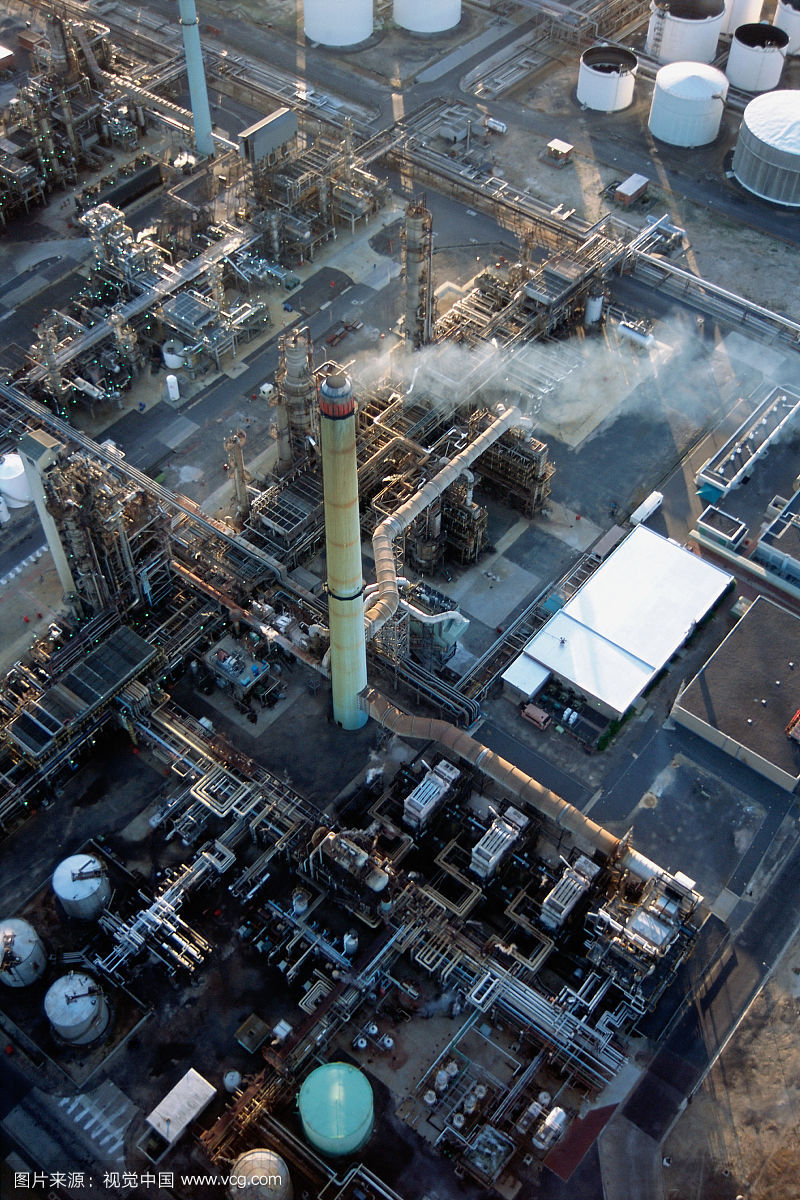dust: (283, 298, 767, 469)
